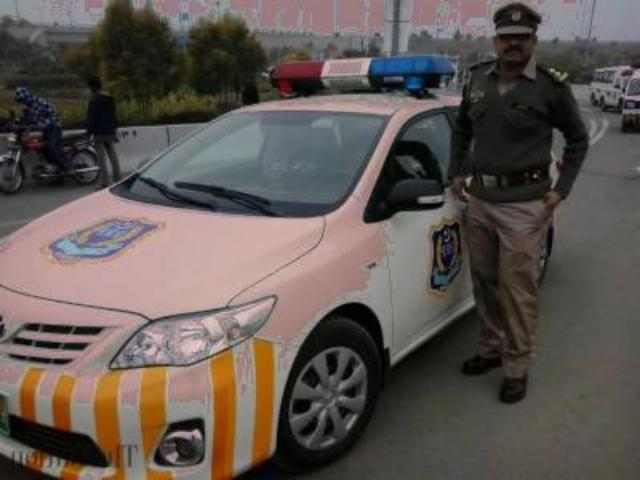police: (0, 53, 482, 470)
